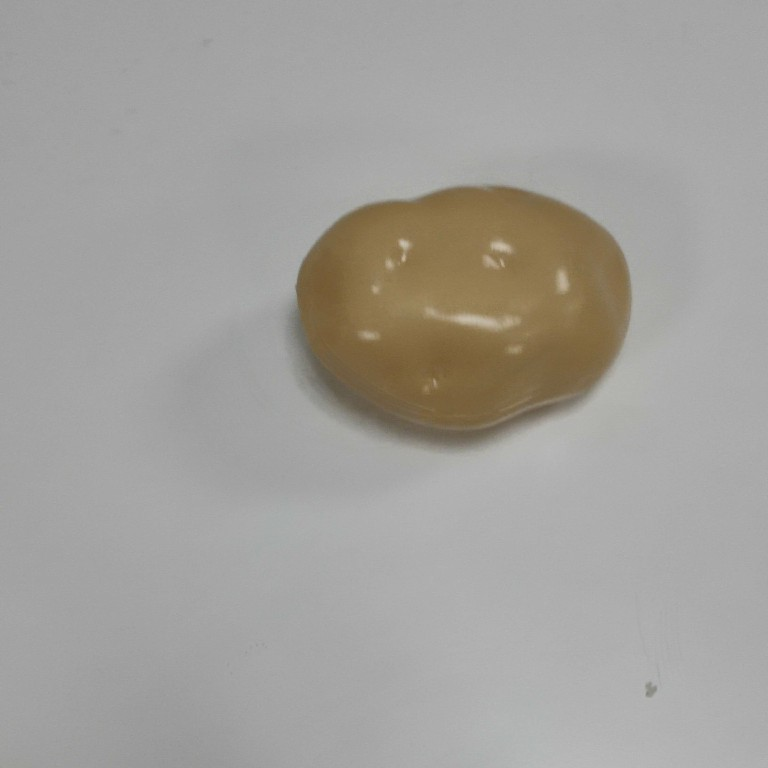fruit_potato: (285, 174, 641, 440)
